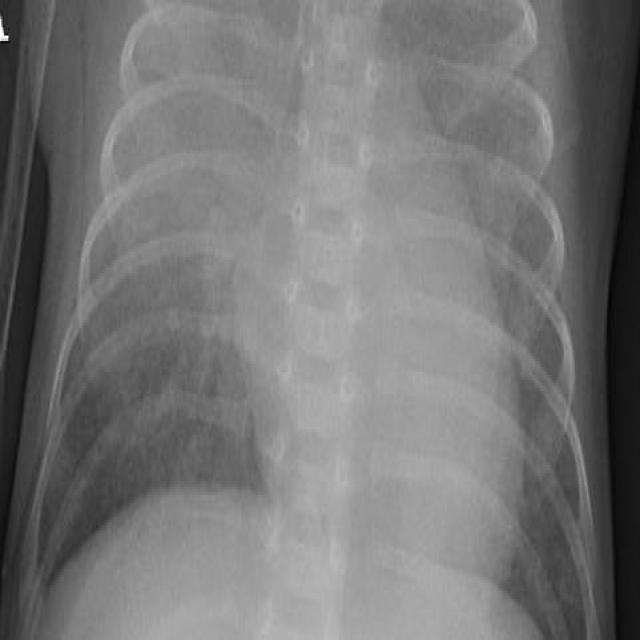high-pneumonia: (95, 8, 294, 398)
low-pneumonia: (429, 1, 528, 291)
